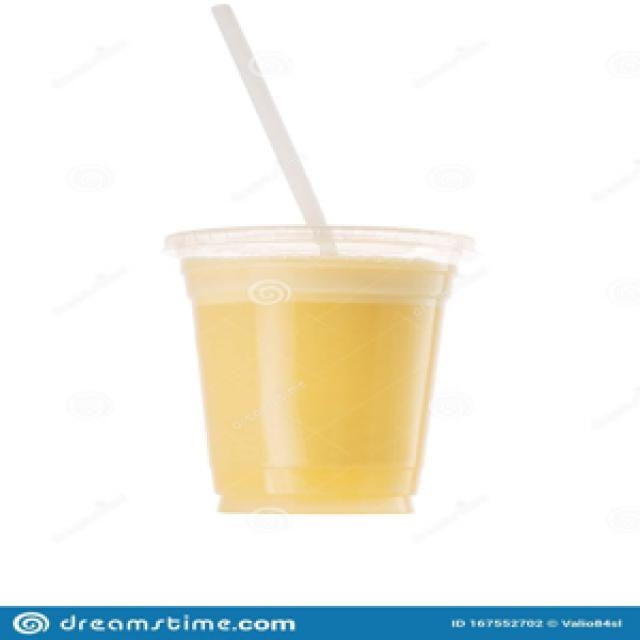plastic cup: (160, 218, 482, 520)
